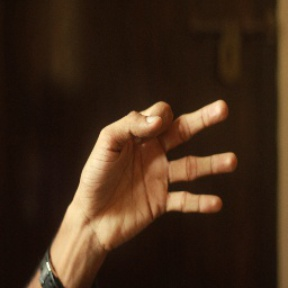K: (77, 99, 232, 231)
